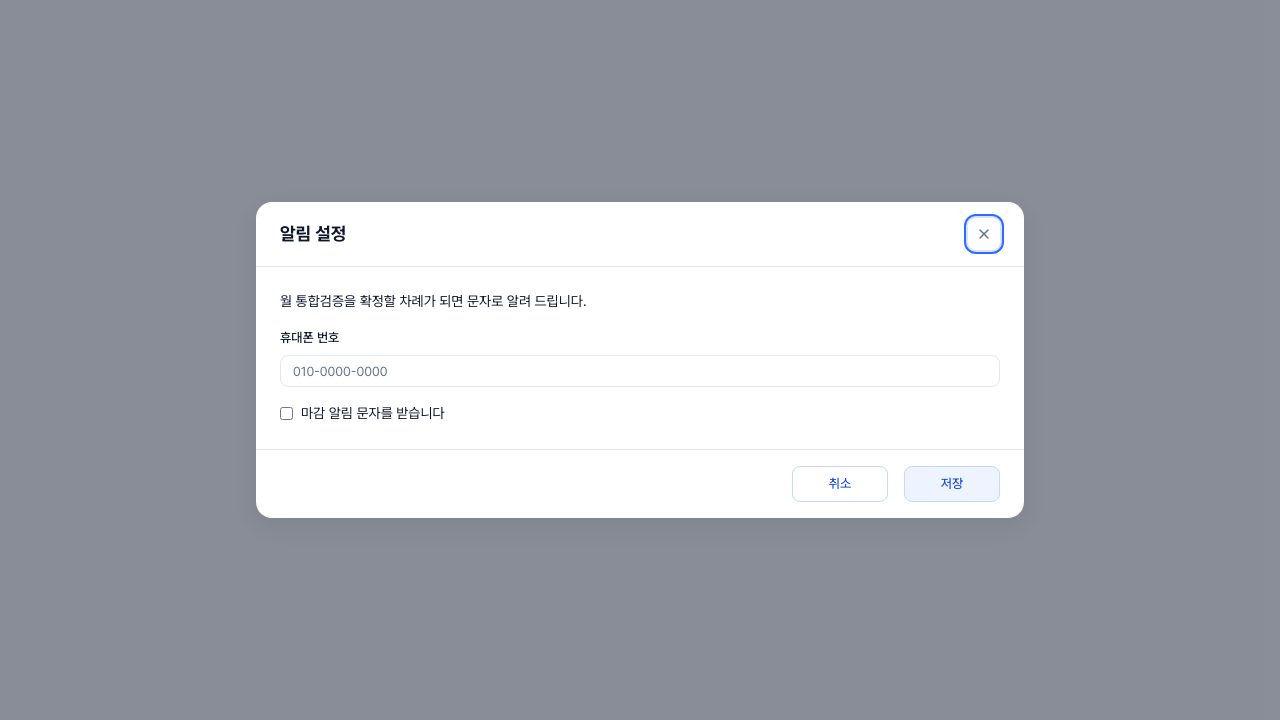
Test: 알림 설정 창 › 휴대폰 번호가 아니면 서버에 보내지 않고 고칠 곳을 알려 준다
Type "02-123-4567" into the field labelled "휴대폰 번호". click: (640,371)
box: [280, 355, 1000, 387]
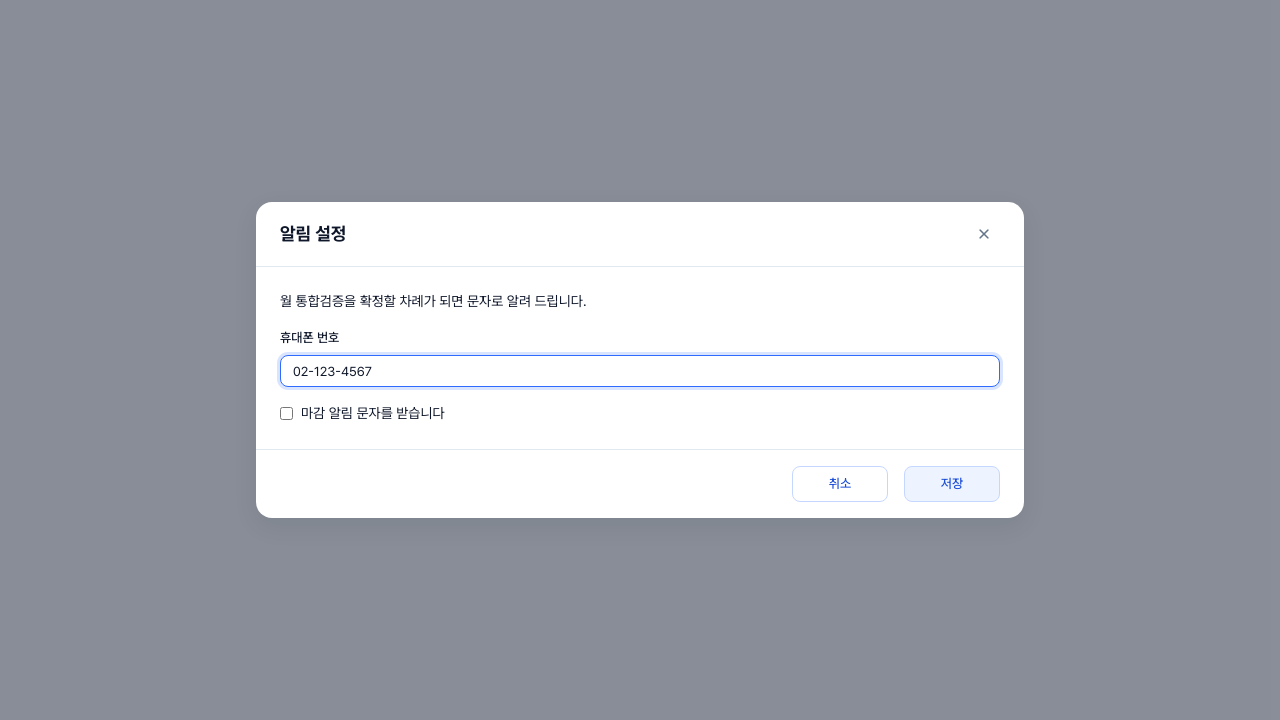
Click the checkbox labelled "마감 알림 문자를 받습니다". click: (286,414)
box: [280, 408, 293, 420]
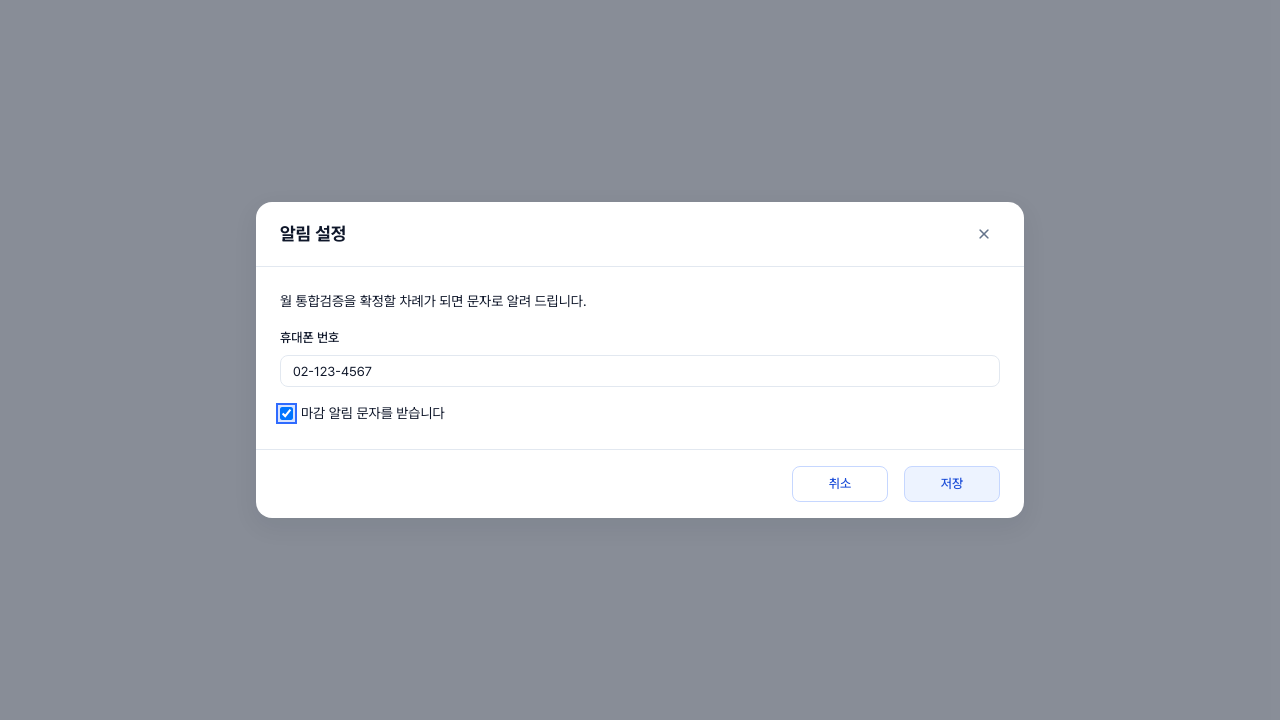
Click the button "저장". click: (952,484)
box: [904, 466, 1000, 502]
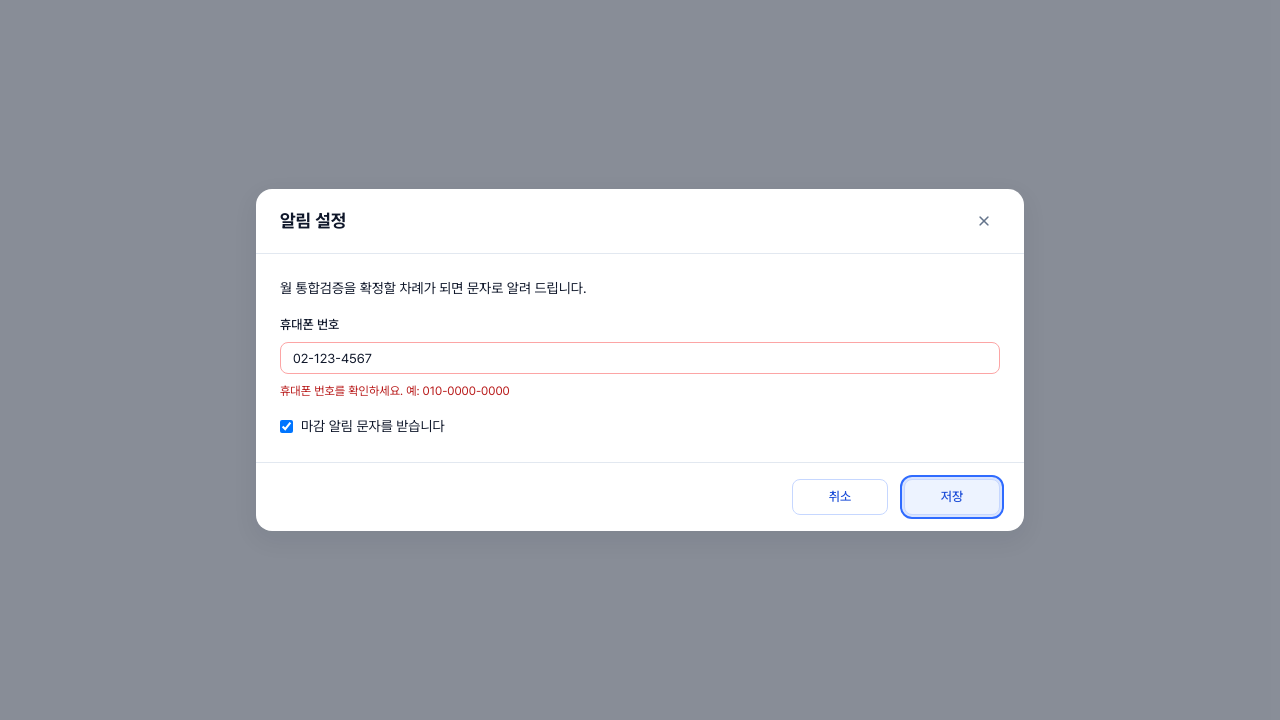
Expected: the text "휴대폰 번호를 확인하세요. 예: 010-0000-0000" is shown, [280, 384, 510, 398]
